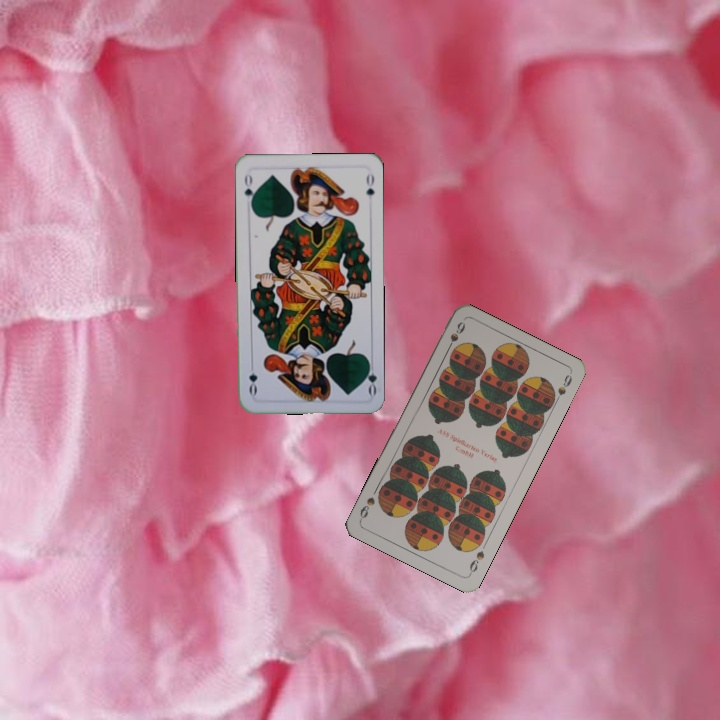GO: (360, 357, 379, 397), (240, 171, 258, 209)
S9: (442, 318, 468, 355), (465, 546, 487, 577)
